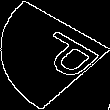P_SE: (10, 24, 100, 86)
